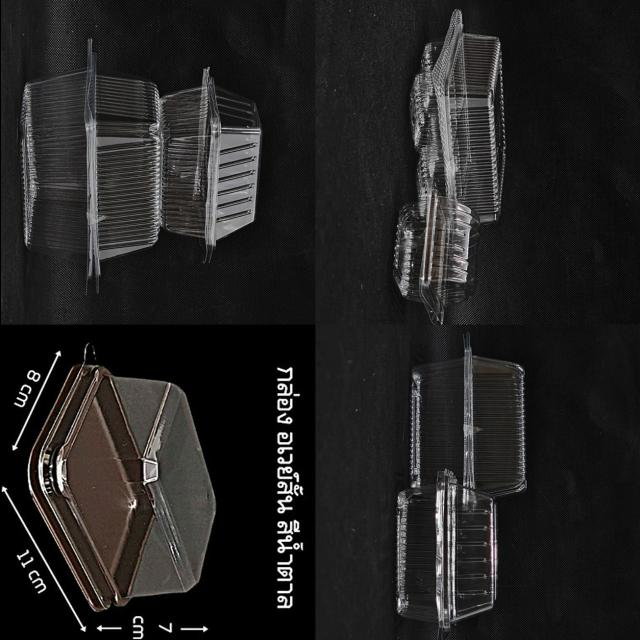plastik: (27, 364, 215, 609), (20, 41, 160, 279), (409, 9, 504, 224), (160, 68, 261, 261), (409, 334, 525, 497), (397, 470, 496, 640), (392, 191, 479, 323)
